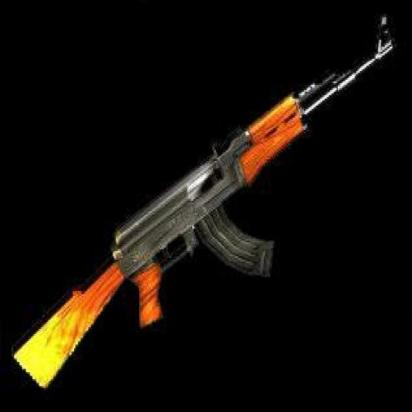Gun: (11, 13, 404, 400)
